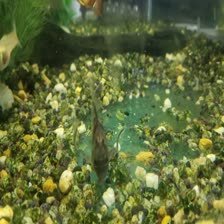Kiros: (76, 98, 126, 183), (126, 138, 138, 140)
